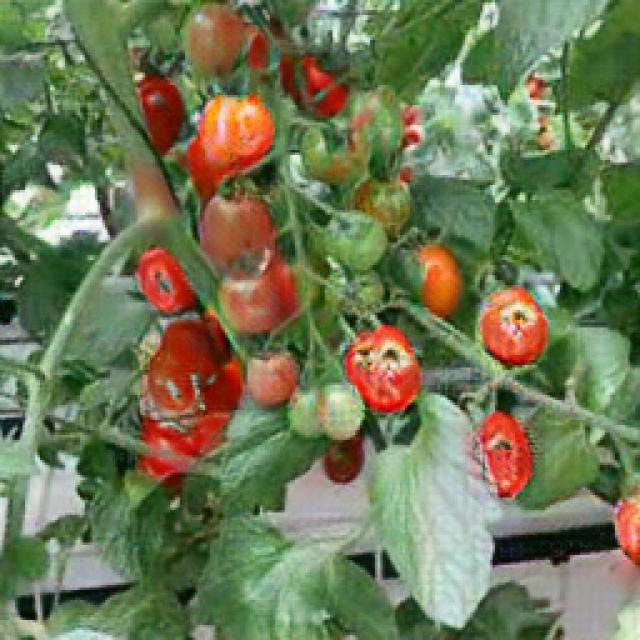overripe tomato: (342, 322, 425, 416), (192, 189, 276, 279), (474, 286, 546, 365), (196, 93, 272, 165), (476, 412, 536, 496), (137, 245, 197, 319)
